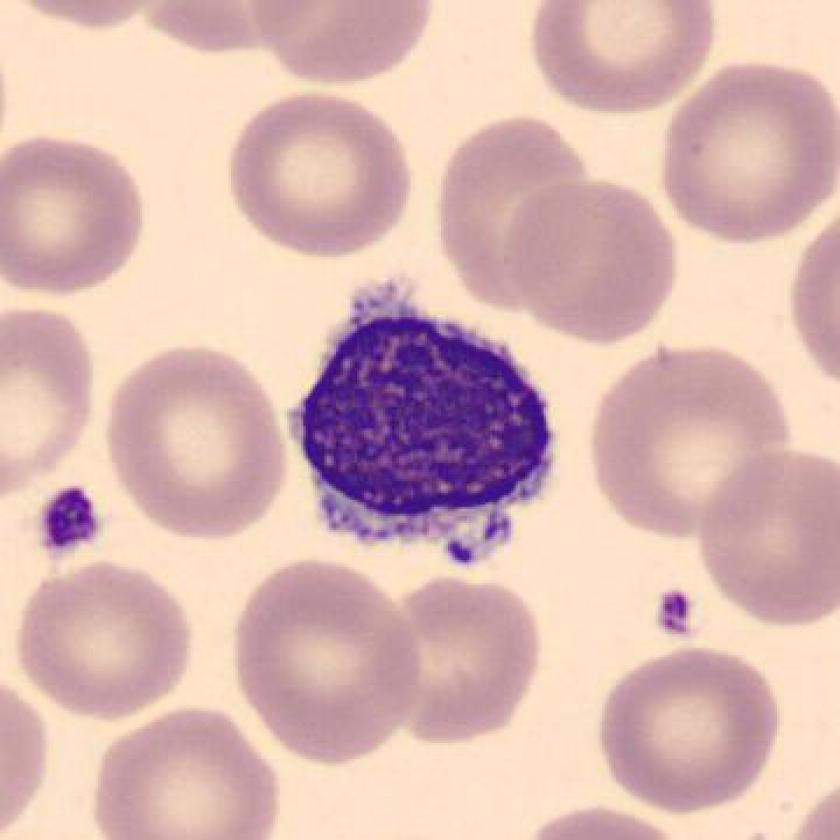lymphocyte: (265, 267, 570, 570)
